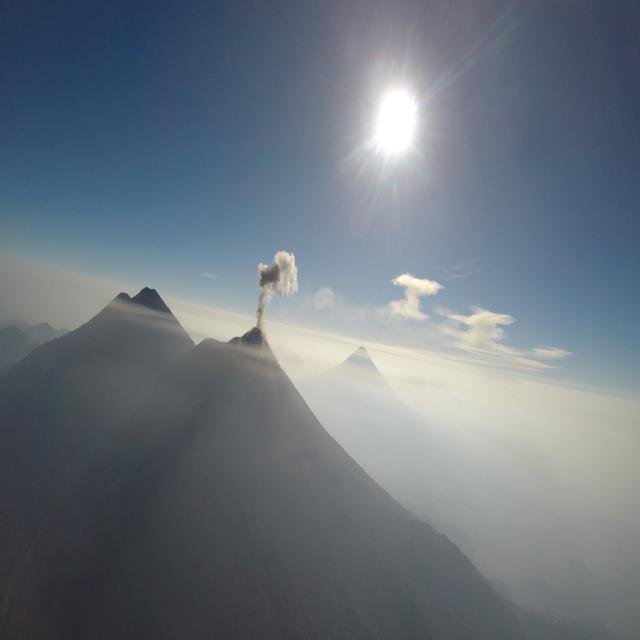Plume: (254, 249, 300, 328)
Summit: (192, 327, 284, 366)
